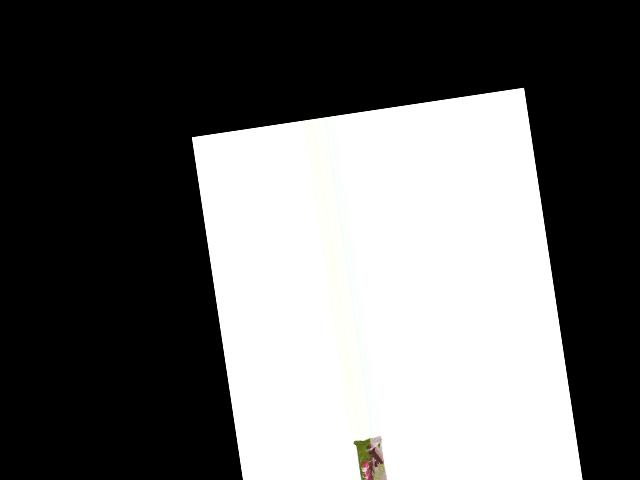chocolate: (353, 436, 395, 480)
